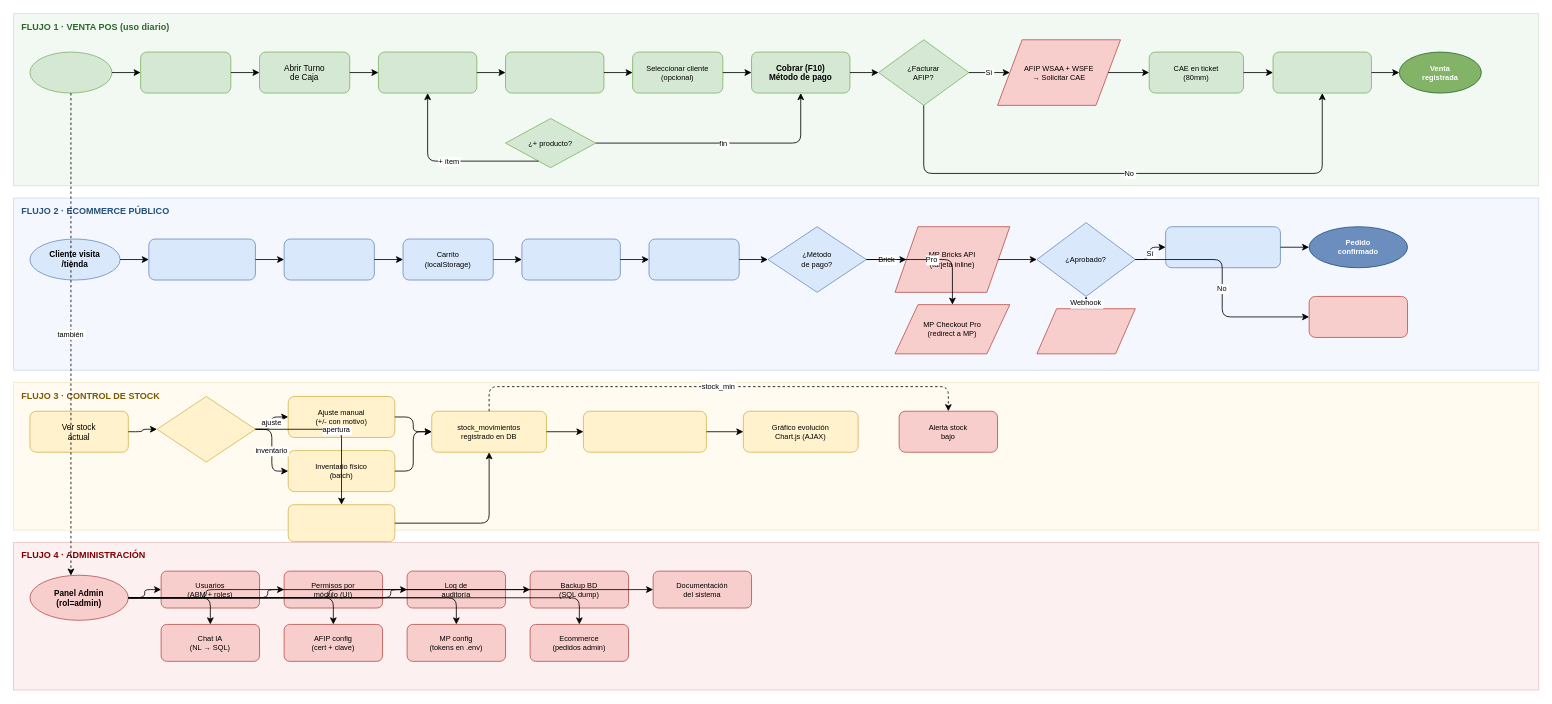
Image size: 1552x704. Some labels were removed from this diagram. The shapes that lost their labels are listed below. From the top down, each one's centre as x and y in pixels, then its label:
At point (70, 72): "Login".
At point (185, 72): "Dashboard".
At point (427, 72): "Pantalla POS (buscar producto)".
At point (554, 72): "Agregar al carrito (cant.·desc.)".
At point (1321, 72): "Ticket / Comanda + WhatsApp share".
At point (201, 259): "Explorar catálogo (filtros / búsqueda)".
At point (328, 259): "Detalle de producto".
At point (570, 259): "Checkout (datos comprador)".
At point (693, 259): "Crear pedido en DB".
At point (1222, 247): "Descontar stock + Email confirmación".
At point (1085, 331): "Webhook IPN MP → sistema".
At point (1358, 316): "Fallo / Pendiente".
At point (205, 429): "¿Acción?".
At point (644, 431): "Reporte comparativo (teórico vs físico)".
At point (341, 523): "Apertura inicial (stock desde cero)".
